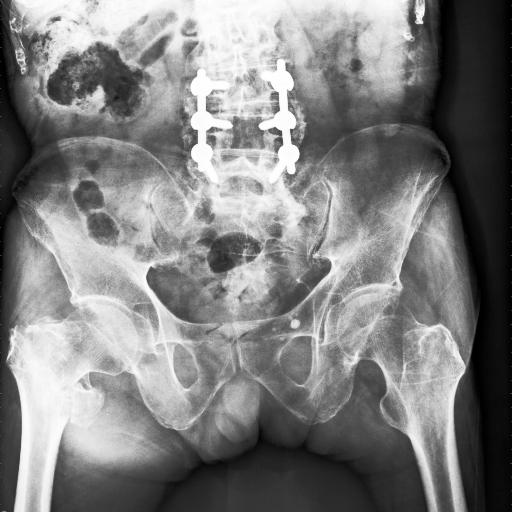intertrochanteric: (25, 304, 138, 389), (5, 324, 71, 457)
lesser-trochanter: (63, 383, 105, 423)
normal: (337, 294, 466, 479)
